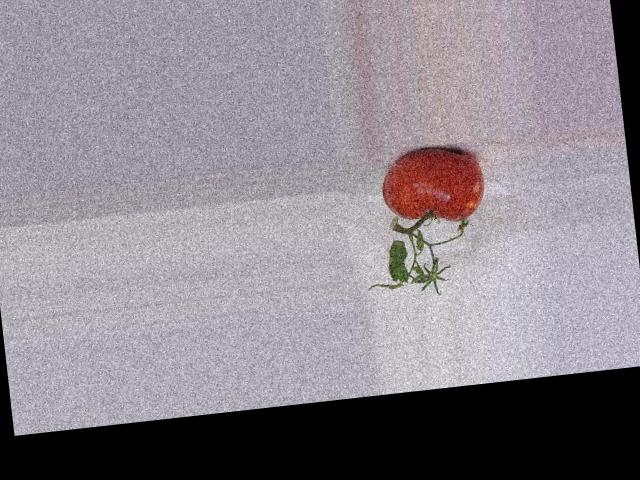tomato: (378, 142, 488, 228)
